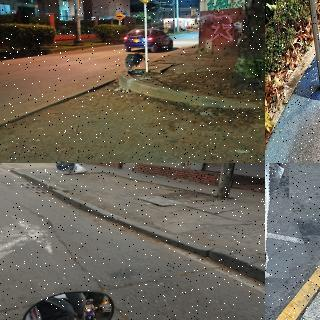Garbage: (265, 163, 299, 281), (124, 53, 146, 70), (54, 163, 76, 175), (74, 163, 88, 174)
